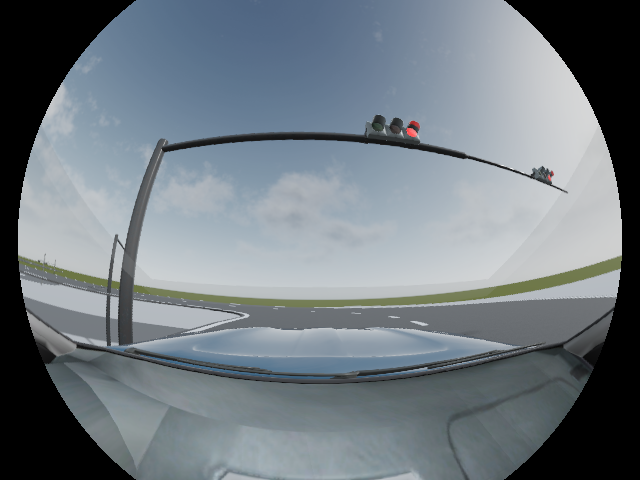Red Light: (368, 113, 421, 143)
